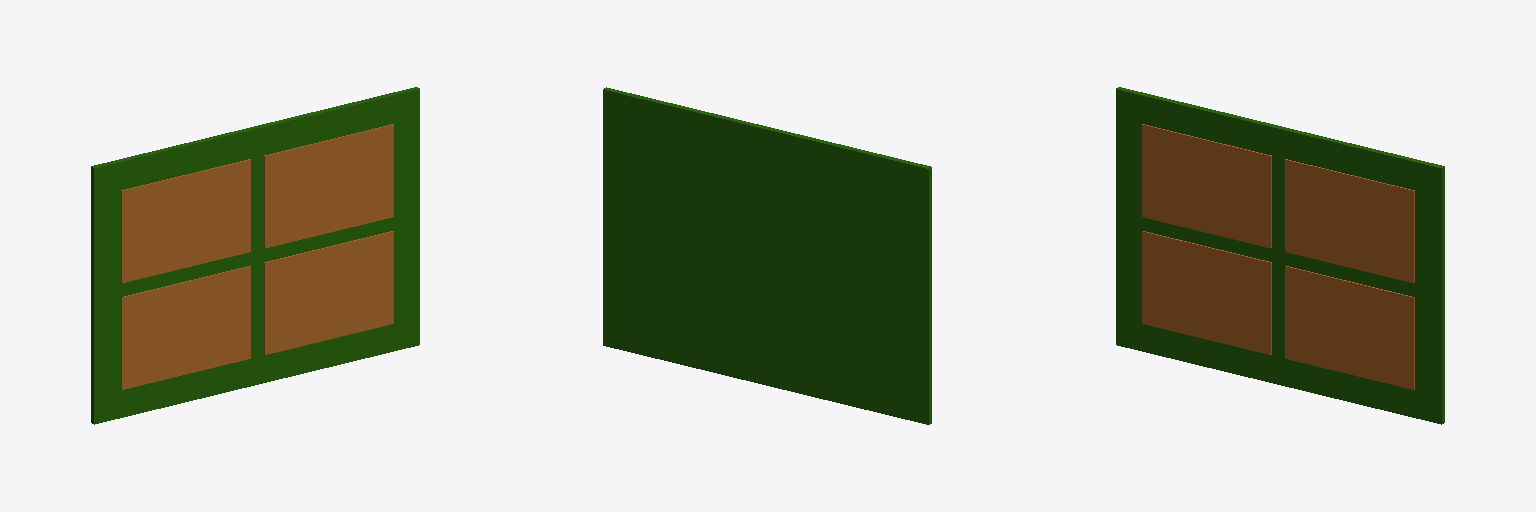
File: TestBasePCB.obj
The picture shows the model from 3 angles: view 1: azimuth 30°, elevation 25°; view 2: azimuth 150°, elevation 25°; view 3: azimuth 330°, elevation 25°; orthographic projection.
Visible parts, largest first — view 1: mesh17, mesh42, mesh4, mesh10, mesh48, mesh14, mesh15; view 2: mesh16, mesh14, mesh15; view 3: mesh17, mesh10, mesh42, mesh48, mesh4, mesh14, mesh13.
Boxes of the visible parts, <box> form: mesh17: <box>94,89,419,424</box>; mesh42: <box>265,231,393,354</box>; mesh4: <box>122,160,250,282</box>; mesh10: <box>122,266,250,389</box>; mesh48: <box>265,125,393,247</box>; mesh14: <box>91,87,419,168</box>; mesh15: <box>91,167,93,423</box>; mesh16: <box>603,90,928,424</box>; mesh14: <box>603,87,930,168</box>; mesh15: <box>929,167,931,424</box>; mesh17: <box>1116,89,1441,424</box>; mesh10: <box>1142,231,1270,354</box>; mesh42: <box>1285,266,1413,389</box>; mesh48: <box>1285,160,1413,282</box>; mesh4: <box>1142,125,1270,247</box>; mesh14: <box>1116,87,1444,168</box>; mesh13: <box>1442,167,1444,423</box>.
Bounding box in the file's own units: 0.3048 × 0.2286 × 0.0063.